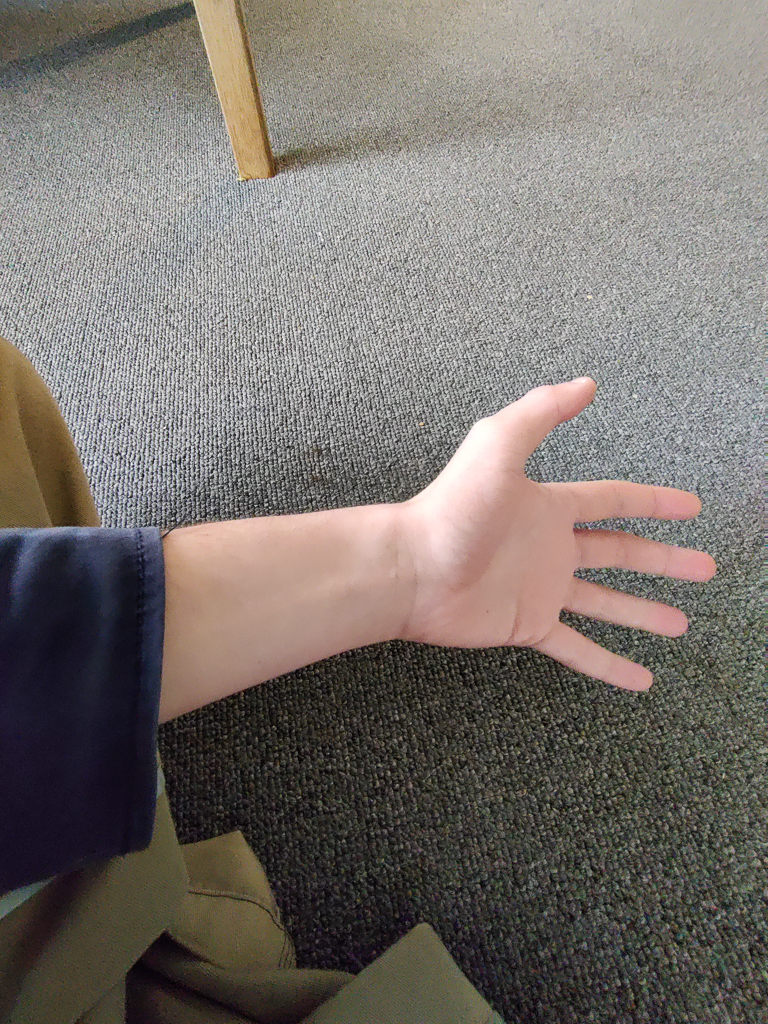Humanoid: (0, 327, 730, 1024)
